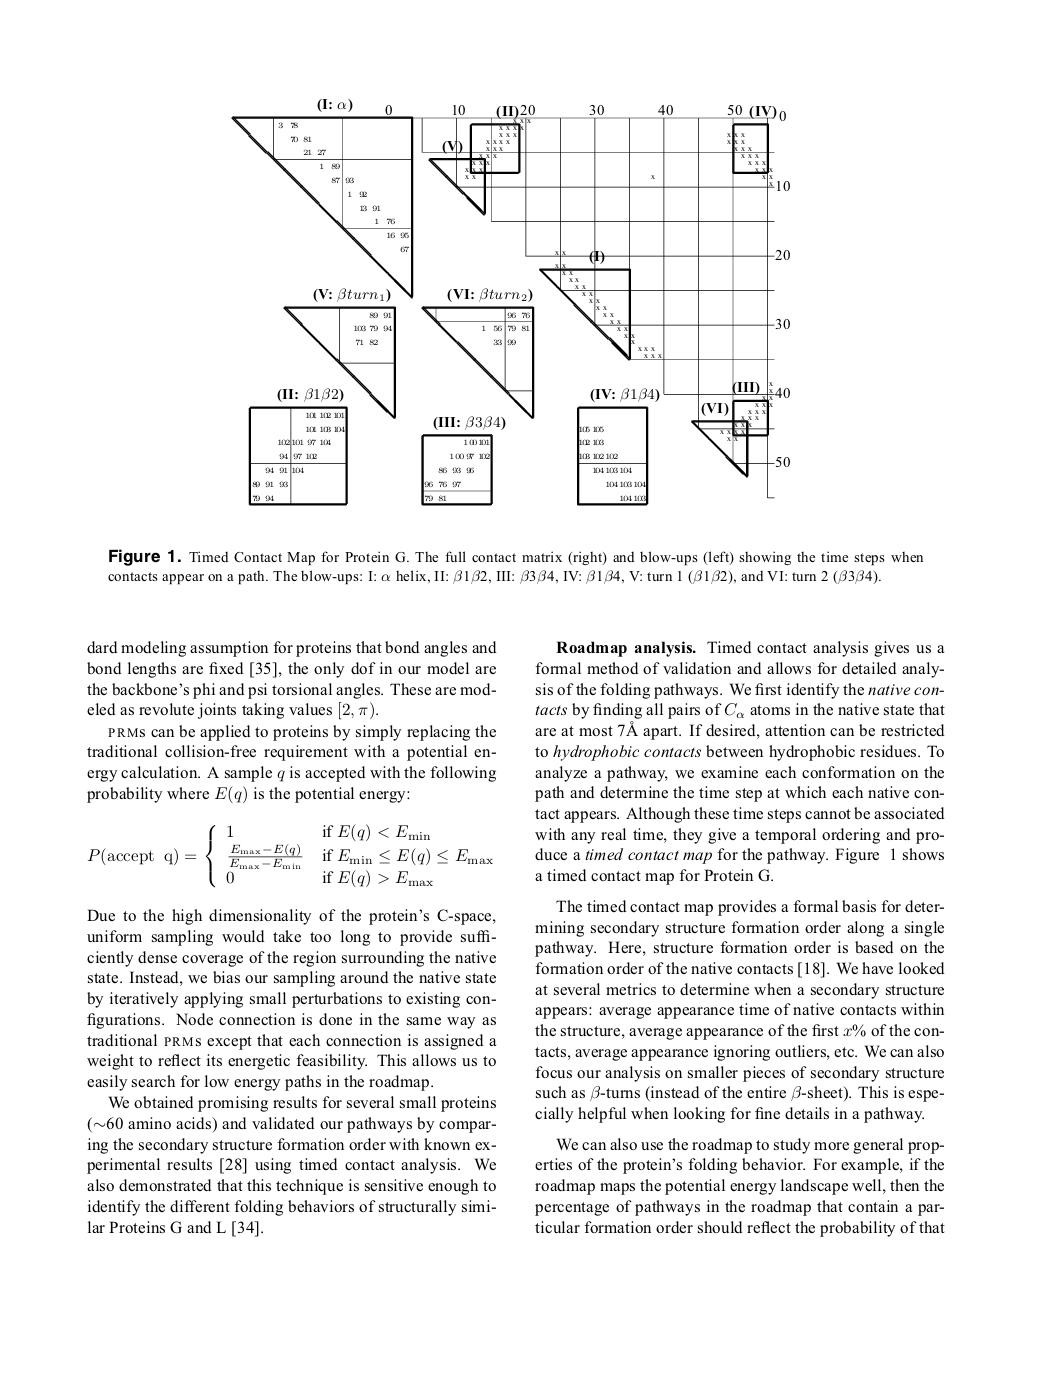figure: (231, 98, 789, 506)
formula: (87, 822, 491, 888)
